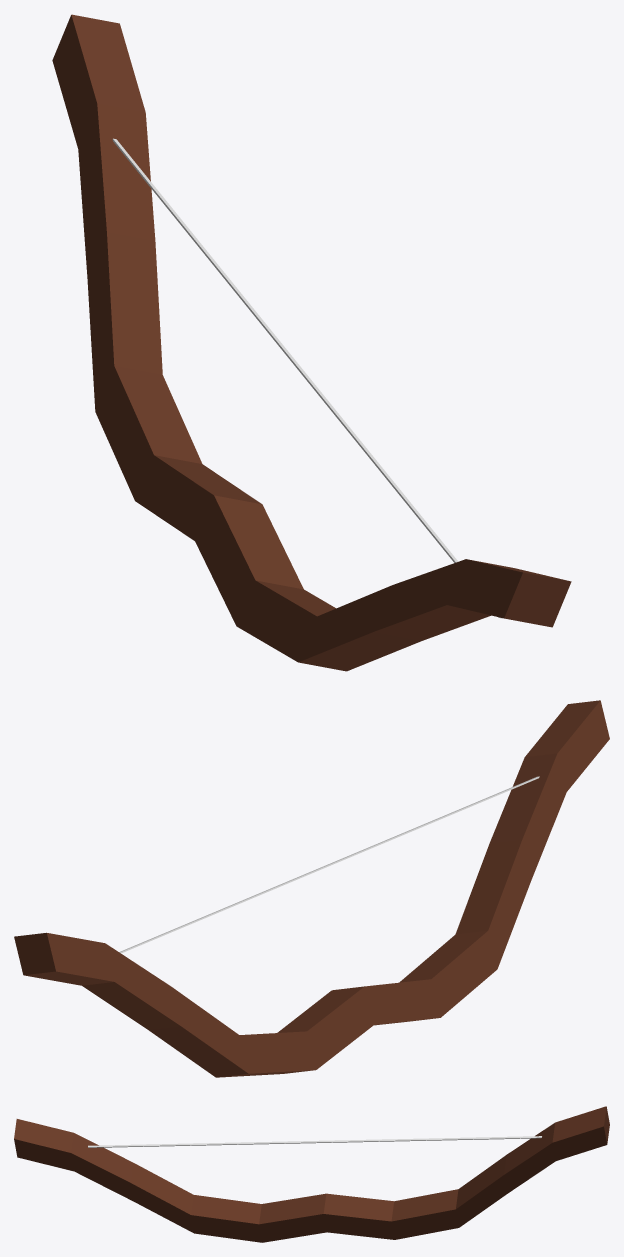
File: bow.glb
The picture shows the model from 3 angles, top to bottom: view 1: azimuth 30°, elevation 25°; view 2: azimuth 150°, elevation 25°; view 3: azimuth 270°, elevation 25°; orthographic projection. The views are drawn at different scales.
Parts seen in each view (by area): view 1: Bow; view 2: Bow; view 3: Bow.
Boxes of the visible parts, left/top/right/bottom form: Bow: left=52, top=14, right=571, bottom=671; Bow: left=14, top=700, right=609, bottom=1077; Bow: left=14, top=1106, right=609, bottom=1242.
Bounding box in the file's own units: 0.5737 × 0.8081 × 2.59.
